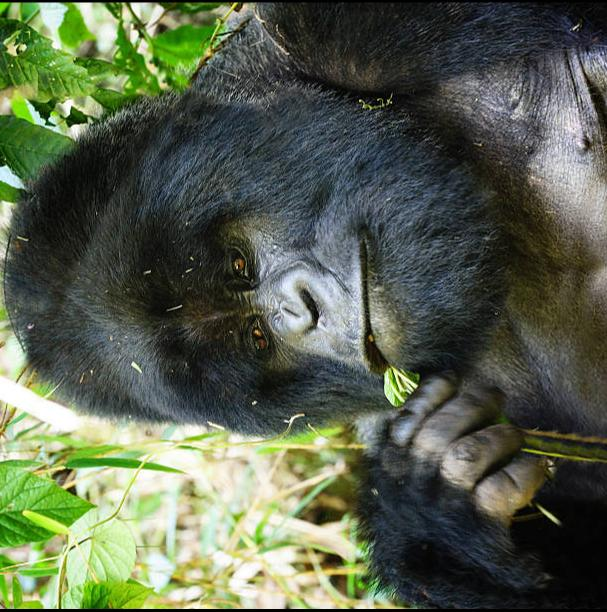goriile_montagne: (0, 4, 607, 481)
